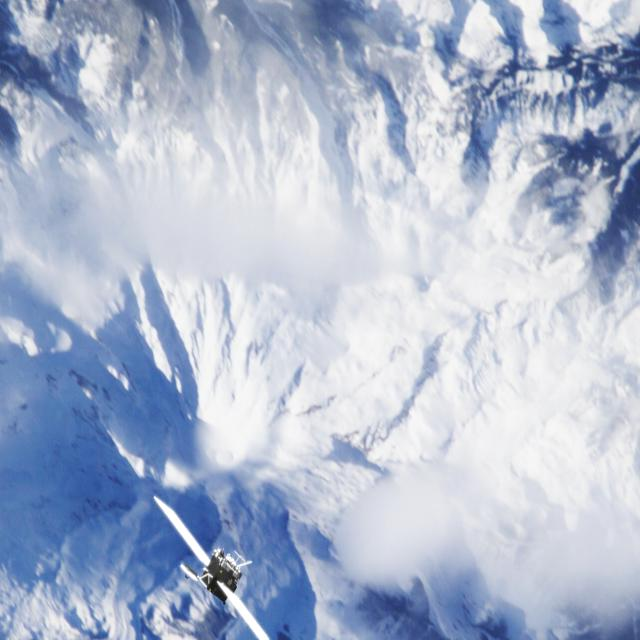satellite: (143, 490, 285, 640)
